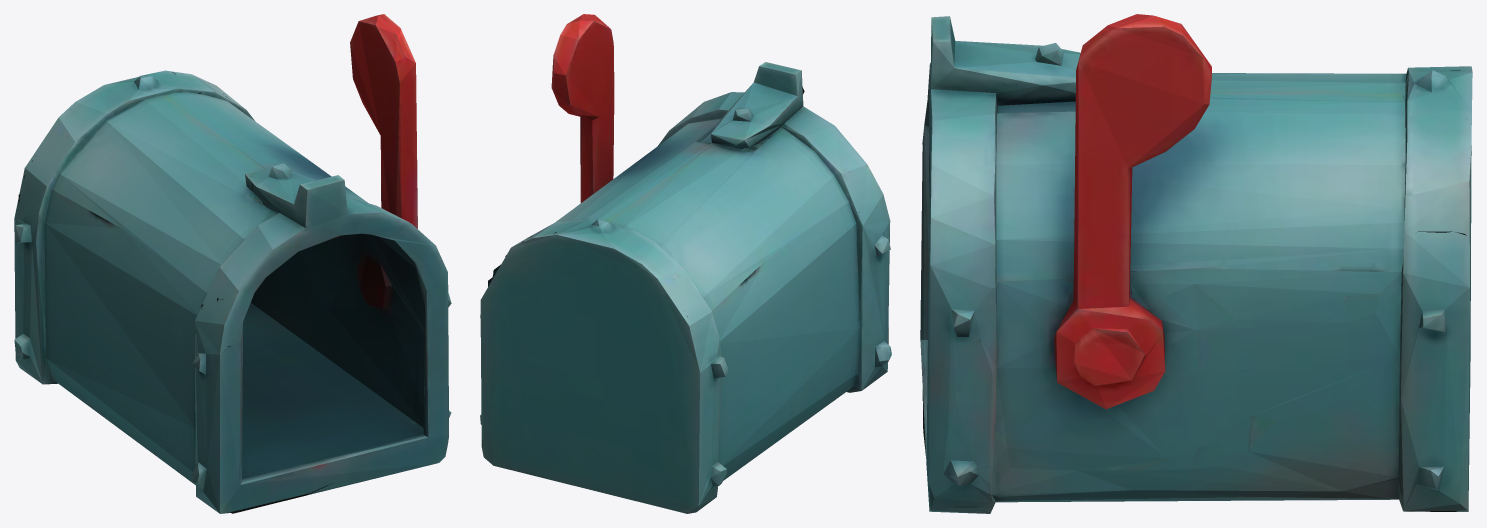
The model's file is mailbox.glb.
The picture shows the model from 3 angles, left to right: view 1: azimuth 30°, elevation 25°; view 2: azimuth 150°, elevation 25°; view 3: azimuth 270°, elevation 25°; orthographic projection. The views are drawn at different scales.
Parts seen in each view (by area): view 1: geometry_0; view 2: geometry_0; view 3: geometry_0.
Boxes of the visible parts, bbox=[...] form: geometry_0: bbox=[14, 14, 451, 513]; geometry_0: bbox=[480, 14, 891, 513]; geometry_0: bbox=[920, 14, 1472, 513].
Bounding box in the file's own units: 0.7472 × 0.9948 × 0.9642.
1 material, 1 textured.
